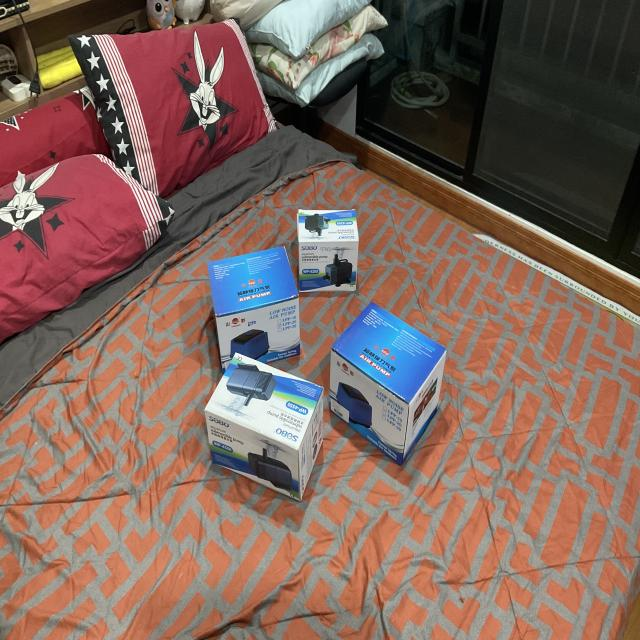SOBO_WP_4200: (195, 341, 334, 499), (290, 197, 368, 299)
YAMANO_LPP_20: (323, 290, 456, 474), (205, 251, 314, 378)
